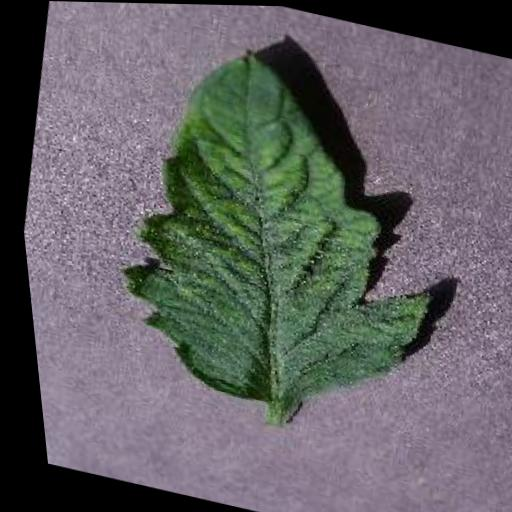Mosaic Virus: (76, 19, 481, 434)
